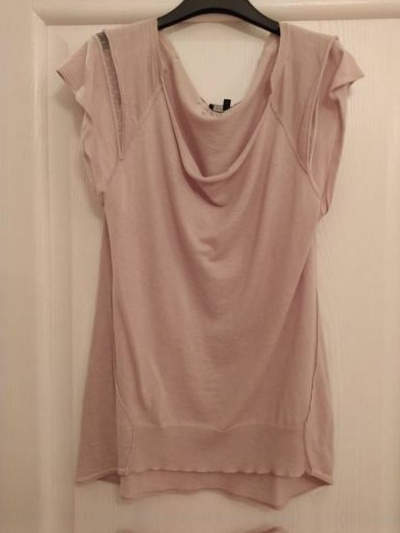Dress: (58, 7, 381, 503)
